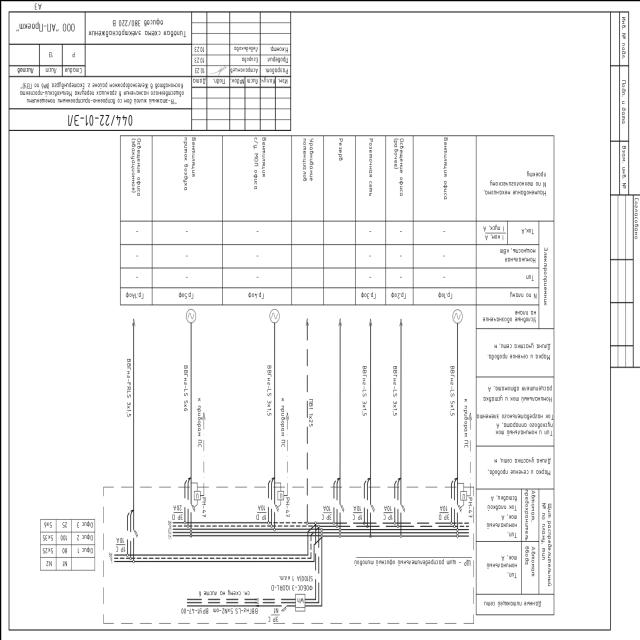-: (268, 572, 312, 592), (319, 504, 332, 520), (266, 606, 278, 622), (350, 504, 362, 520), (113, 536, 125, 552), (436, 504, 448, 520), (170, 504, 182, 520), (380, 504, 392, 520), (254, 504, 266, 520), (466, 496, 472, 518), (284, 496, 290, 518), (200, 495, 206, 517), (462, 558, 470, 568)
ITU: (192, 489, 200, 500), (276, 490, 284, 500), (459, 490, 467, 500)
QF: (272, 502, 278, 516), (455, 500, 461, 514), (368, 502, 374, 516), (279, 604, 287, 614), (188, 501, 194, 514), (131, 528, 137, 541), (338, 502, 344, 515), (398, 501, 404, 514)
WH: (294, 592, 304, 612)
